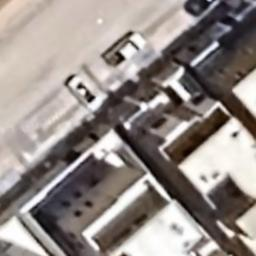sedan: (99, 29, 148, 70), (65, 72, 106, 113), (182, 0, 221, 18)
